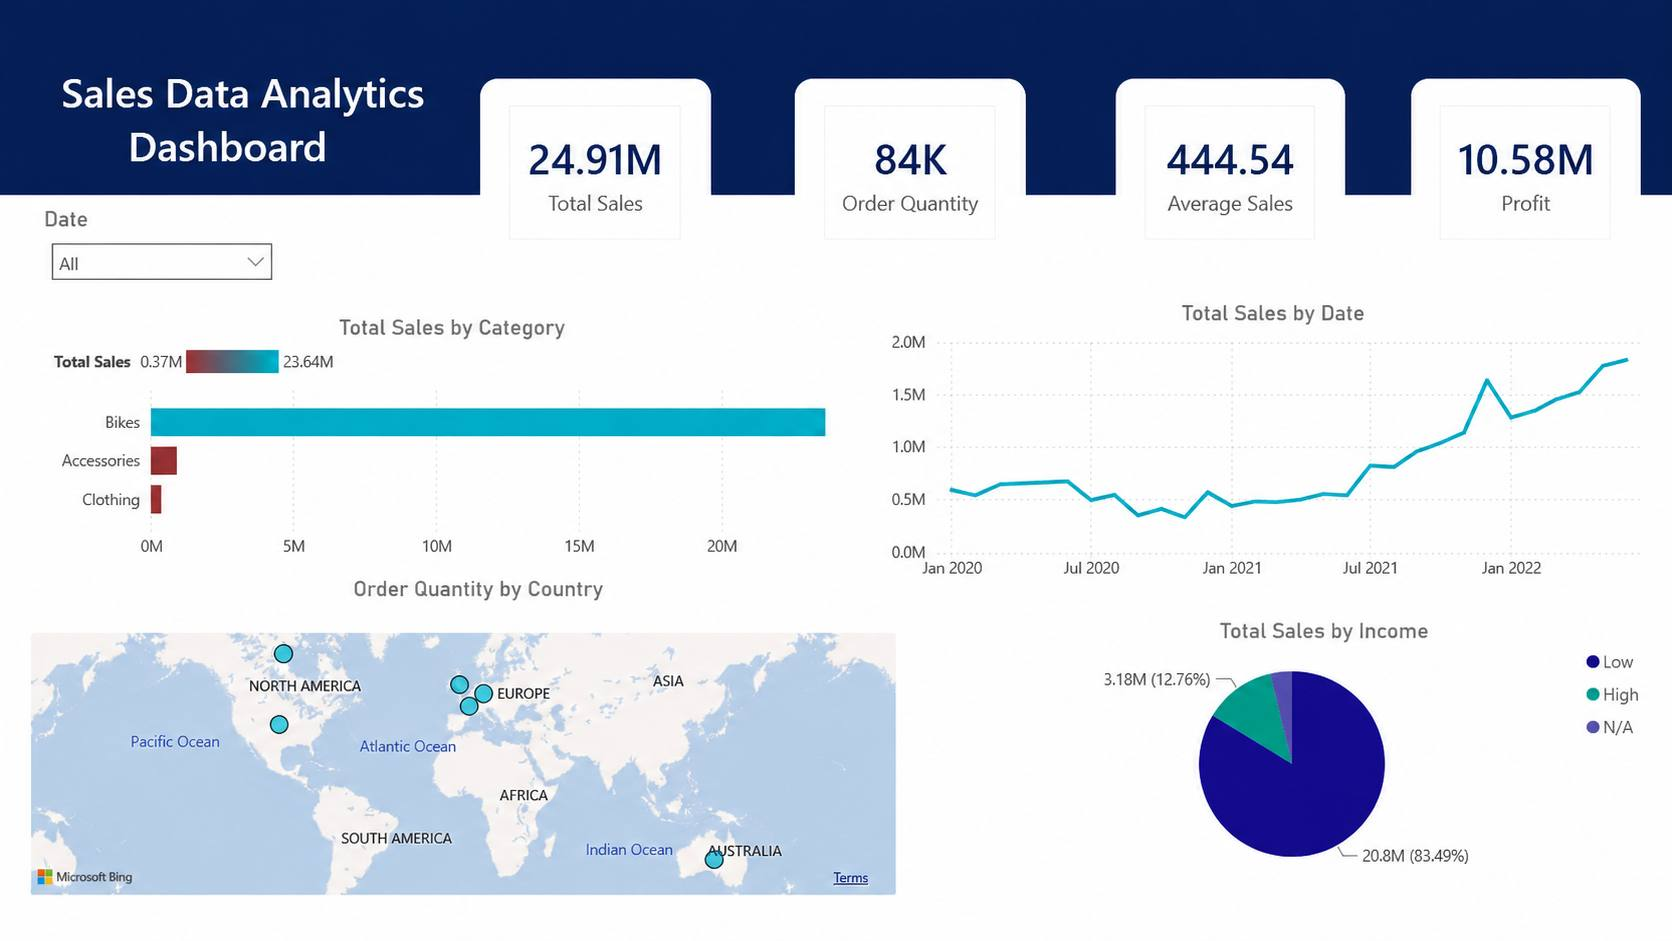

What the dashboard file says about the page in this screenshot:
{"tool":"powerbi","page":{"name":"Page 1","canvas":[1280,720],"ordinal":0},"visuals":[{"type":"cardVisual","fields":{"Data":["Sum(Sales Data.Profit)"]},"box":[427.1,487.6,234.3,141.7],"z":0},{"type":"pieChart","title":"Total Sales by  Income","fields":{"Category":["Customer Lookup.Customer Income"],"Y":["Sales Data.Total Sales"]},"box":[740.8,512.1,527.2,207.9],"z":1000},{"type":"lineChart","title":"Total Sales by  Date","fields":{"Y":["Sales Data.Total Sales"],"Category":["Calendar Lookup.Date.Variation.Date Hierarchy.Year","Calendar Lookup.Date.Variation.Date Hierarchy.Month"]},"box":[661.4,264.6,606.6,223],"z":2000},{"type":"map","title":" Order Quantity by Country","fields":{"Size":["Sum(Sales Data.OrderQuantity)"],"Category":["Territory Lookup.Country"]},"box":[11.3,470.6,670.9,249.5],"z":3000},{"type":"shape","box":[0,0,1279.4,185.2],"z":4000},{"type":"cardVisual","fields":{"Data":["Sales Data.Average Sales"]},"box":[841,92.6,179.5,149.3],"z":5000},{"type":"barChart","title":"Total Sales by Category","fields":{"Y":["Sales Data.Total Sales"],"Category":["Product Categories Lookup.CategoryName"]},"box":[11.3,275.9,629.3,194.6],"z":6000},{"type":"cardVisual","fields":{"Data":["Sales Data.Total Sales"]},"box":[347.7,92.6,179.5,149.3],"z":7000},{"type":"cardVisual","fields":{"Data":["Sum(Sales Data.Profit)"]},"box":[1071.5,92.6,179.5,149.3],"z":8000},{"type":"cardVisual","fields":{"Data":["Sum(Sales Data.OrderQuantity)"]},"box":[591.5,92.6,179.5,149.3],"z":9000},{"type":"slicer","title":"Date","fields":{"Values":["Calendar Lookup.Date.Variation.Date Hierarchy.Year","Calendar Lookup.Date.Variation.Date Hierarchy.Month"]},"box":[0,185.2,202.2,69.9],"z":10000},{"type":"textbox","box":[11.3,77.5,326.9,96.4],"z":11000}]}

Visuals, with their boxes in screenshot pixels (x1, y1, x2, y2), scaled from the page's 1280x720 canvas onto the 1672x941 screenshot:
cardVisual - Sum(Sales Data.Profit): {"left": 558, "top": 637, "right": 864, "bottom": 822}
"Total Sales by  Income" pieChart: {"left": 968, "top": 669, "right": 1656, "bottom": 940}
"Total Sales by  Date" lineChart: {"left": 864, "top": 346, "right": 1656, "bottom": 637}
" Order Quantity by Country" map: {"left": 15, "top": 615, "right": 891, "bottom": 940}
shape: {"left": 0, "top": 0, "right": 1671, "bottom": 242}
cardVisual - Sales Data.Average Sales: {"left": 1099, "top": 121, "right": 1333, "bottom": 316}
"Total Sales by Category" barChart: {"left": 15, "top": 361, "right": 837, "bottom": 615}
cardVisual - Sales Data.Total Sales: {"left": 454, "top": 121, "right": 689, "bottom": 316}
cardVisual - Sum(Sales Data.Profit): {"left": 1400, "top": 121, "right": 1634, "bottom": 316}
cardVisual - Sum(Sales Data.OrderQuantity): {"left": 773, "top": 121, "right": 1007, "bottom": 316}
"Date" slicer: {"left": 0, "top": 242, "right": 264, "bottom": 333}
textbox: {"left": 15, "top": 101, "right": 442, "bottom": 227}
